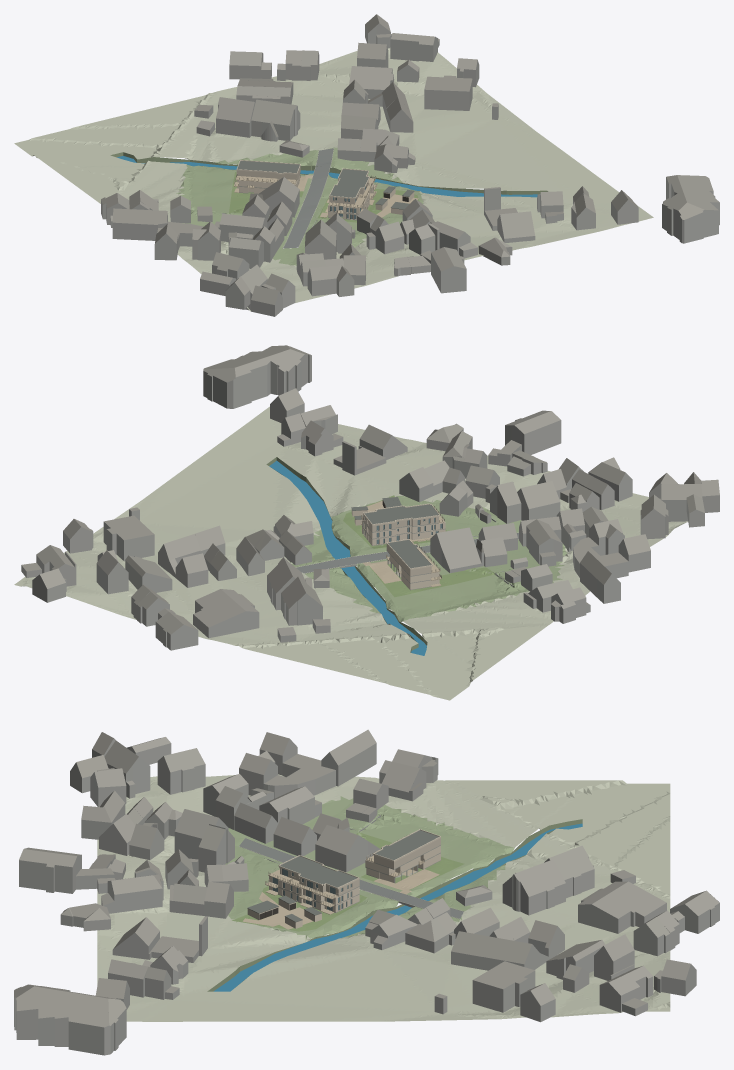
Rendered from Finkenberg_Projekt.glb.
The picture shows the model from 3 angles, top to bottom: view 1: azimuth 30°, elevation 25°; view 2: azimuth 150°, elevation 25°; view 3: azimuth 270°, elevation 25°; orthographic projection. The views are drawn at different scales.
Parts seen in each view (by area): view 1: Umgebung_Bodenhoehen_LoD1_schematisch, Gelaende_TIN_Vermessung_interpoliert, 8,_8/1_Keltergasse__DEBW_51000004YFA_WallSurface, 8,_8/1_Keltergasse__DEBW_51000004YFA_RoofSurface, Fahrbahn_Vermessene_Raender, 3_Keltergasse__DEBW_51000004YFw_RoofSurface, Ufer_Boeschung_interpoliert, Gewaesser_Umriss_WBF_Wasserstand_angenommen, Mühlbergstraße__DEBW_51000004Z5b_RoofSurface, 2/1_Panoramastraße__DEBW_5100000aDde_WallSurface, 11_Unterlandstraße__DEBW_51000004YMV_WallSurface, 6_Finkenbergstraße__DEBW_51000004YzO_WallSurface (+25 smaller); view 2: Umgebung_Bodenhoehen_LoD1_schematisch, Gelaende_TIN_Vermessung_interpoliert, 8,_8/1_Keltergasse__DEBW_51000004YFA_WallSurface, Gewaesser_Umriss_WBF_Wasserstand_angenommen, 8,_8/1_Keltergasse__DEBW_51000004YFA_RoofSurface, Mühlbergstraße__DEBW_51000004Z5b_RoofSurface, 9_Unterlandstraße__DEBW_51000004YMU_WallSurface, 7_Finkenbergstraße__DEBW_51000004YzP_RoofSurface, 6_Finkenbergstraße__DEBW_51000004YzO_WallSurface, 3_Keltergasse__DEBW_51000004YFw_WallSurface, 6_Finkenbergstraße__DEBW_51000004YzO_RoofSurface, Mühlbergstraße__DEBW_51000004Z5b_WallSurface (+31 smaller); view 3: Umgebung_Bodenhoehen_LoD1_schematisch, Gelaende_TIN_Vermessung_interpoliert, 8,_8/1_Keltergasse__DEBW_51000004YFA_WallSurface, 8,_8/1_Keltergasse__DEBW_51000004YFA_RoofSurface, Gewaesser_Umriss_WBF_Wasserstand_angenommen, 9_Unterlandstraße__DEBW_51000004YMU_WallSurface, Mühlbergstraße__DEBW_51000004Z5b_RoofSurface, 6_Finkenbergstraße__DEBW_51000004YzO_WallSurface, 15_Finkenbergstraße__DEBW_51000004YzV_WallSurface, Ufer_Boeschung_interpoliert, 2/1_Panoramastraße__DEBW_5100000aDde_WallSurface, Mühlbergstraße__DEBW_51000004Z5b_WallSurface (+72 smaller).
Boxes of the visible parts, x1,y1,x2,y2 form: Umgebung_Bodenhoehen_LoD1_schematisch: (14,48,653,311); Gelaende_TIN_Vermessung_interpoliert: (176,147,423,265); 8,_8/1_Keltergasse__DEBW_51000004YFA_WallSurface: (662,177,719,243); 8,_8/1_Keltergasse__DEBW_51000004YFA_RoofSurface: (662,175,719,219); Fahrbahn_Vermessene_Raender: (283,148,333,248); 3_Keltergasse__DEBW_51000004YFw_RoofSurface: (484,187,534,238); Ufer_Boeschung_interpoliert: (110,152,547,197); Gewaesser_Umriss_WBF_Wasserstand_angenommen: (117,156,537,197); Mühlbergstraße__DEBW_51000004Z5b_RoofSurface: (236,78,292,98); 2/1_Panoramastraße__DEBW_5100000aDde_WallSurface: (424,77,472,110); 11_Unterlandstraße__DEBW_51000004YMV_WallSurface: (409,224,470,254); 6_Finkenbergstraße__DEBW_51000004YzO_WallSurface: (305,215,351,259); Umgebung_Bodenhoehen_LoD1_schematisch: (14,406,688,700); Gelaende_TIN_Vermessung_interpoliert: (290,496,567,621); 8,_8/1_Keltergasse__DEBW_51000004YFA_WallSurface: (203,354,311,408); Gewaesser_Umriss_WBF_Wasserstand_angenommen: (269,460,426,655); 8,_8/1_Keltergasse__DEBW_51000004YFA_RoofSurface: (203,345,311,382); Mühlbergstraße__DEBW_51000004Z5b_RoofSurface: (193,589,258,627); 9_Unterlandstraße__DEBW_51000004YMU_WallSurface: (497,420,561,466); 7_Finkenbergstraße__DEBW_51000004YzP_RoofSurface: (436,527,483,569); 6_Finkenbergstraße__DEBW_51000004YzO_WallSurface: (490,482,560,523); 3_Keltergasse__DEBW_51000004YFw_WallSurface: (333,435,407,475); 6_Finkenbergstraße__DEBW_51000004YzO_RoofSurface: (497,481,560,508); Mühlbergstraße__DEBW_51000004Z5b_WallSurface: (193,589,259,638); Umgebung_Bodenhoehen_LoD1_schematisch: (97,774,670,1021); Gelaende_TIN_Vermessung_interpoliert: (225,796,513,941); 8,_8/1_Keltergasse__DEBW_51000004YFA_WallSurface: (14,990,126,1055); 8,_8/1_Keltergasse__DEBW_51000004YFA_RoofSurface: (14,984,126,1027); Gewaesser_Umriss_WBF_Wasserstand_angenommen: (213,823,582,991); 9_Unterlandstraße__DEBW_51000004YMU_WallSurface: (19,855,114,893); Mühlbergstraße__DEBW_51000004Z5b_RoofSurface: (578,881,666,918); 6_Finkenbergstraße__DEBW_51000004YzO_WallSurface: (174,818,234,872); 15_Finkenbergstraße__DEBW_51000004YzV_WallSurface: (502,874,565,915); Ufer_Boeschung_interpoliert: (207,819,582,991); 2/1_Panoramastraße__DEBW_5100000aDde_WallSurface: (472,971,535,1012); Mühlbergstraße__DEBW_51000004Z5b_WallSurface: (578,900,666,933).
Bounding box in the file's own units: 237 × 18.41 × 244.
